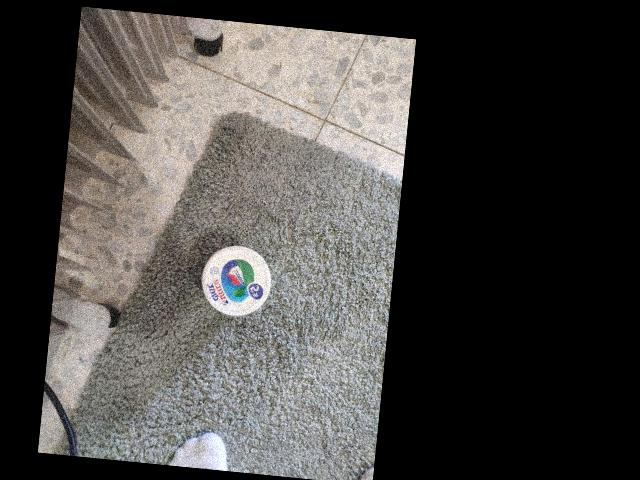cotage: (197, 239, 275, 316)
